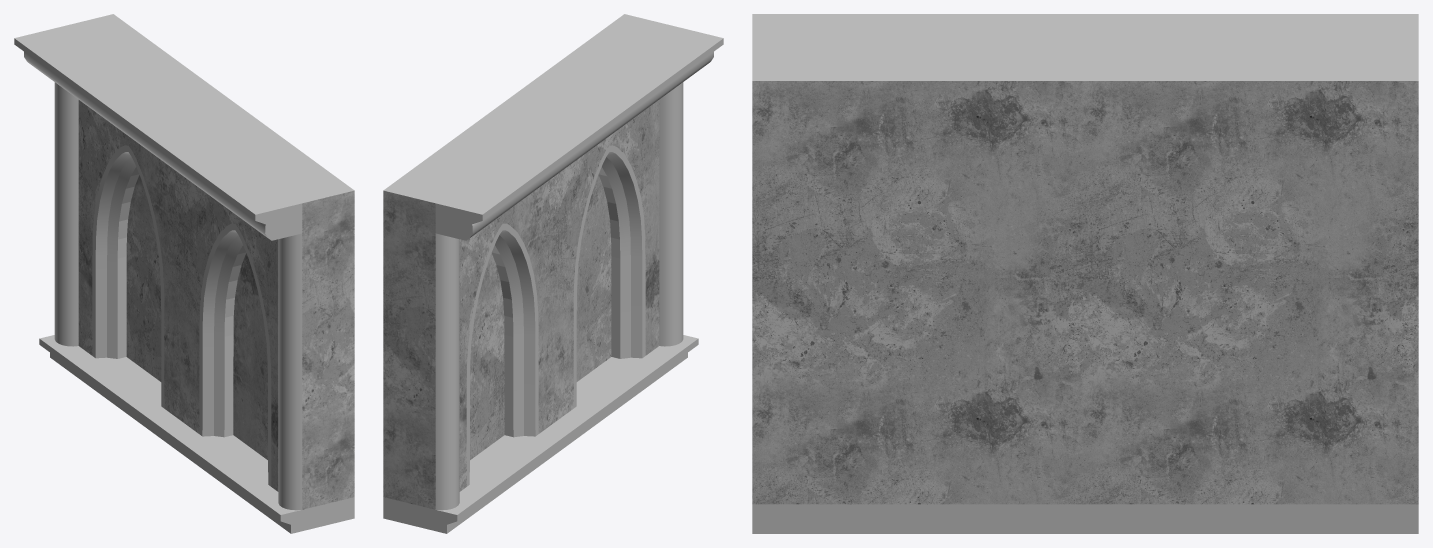
The model's file is SM_TowerWall_06a.fbx.
The picture shows the model from 3 angles, left to right: view 1: azimuth 30°, elevation 25°; view 2: azimuth 150°, elevation 25°; view 3: azimuth 270°, elevation 25°; orthographic projection. The views are drawn at different scales.
Parts seen in each view (by area): view 1: SM_TowerWall_06a_LOD0; view 2: SM_TowerWall_06a_LOD0; view 3: SM_TowerWall_06a_LOD0.
Part boxes in pixels (x1,y1,x2,y2): SM_TowerWall_06a_LOD0: [14, 14, 354, 533]; SM_TowerWall_06a_LOD0: [383, 14, 723, 533]; SM_TowerWall_06a_LOD0: [752, 14, 1418, 533].
Size of the model in its own units: 190 by 800 by 600.
